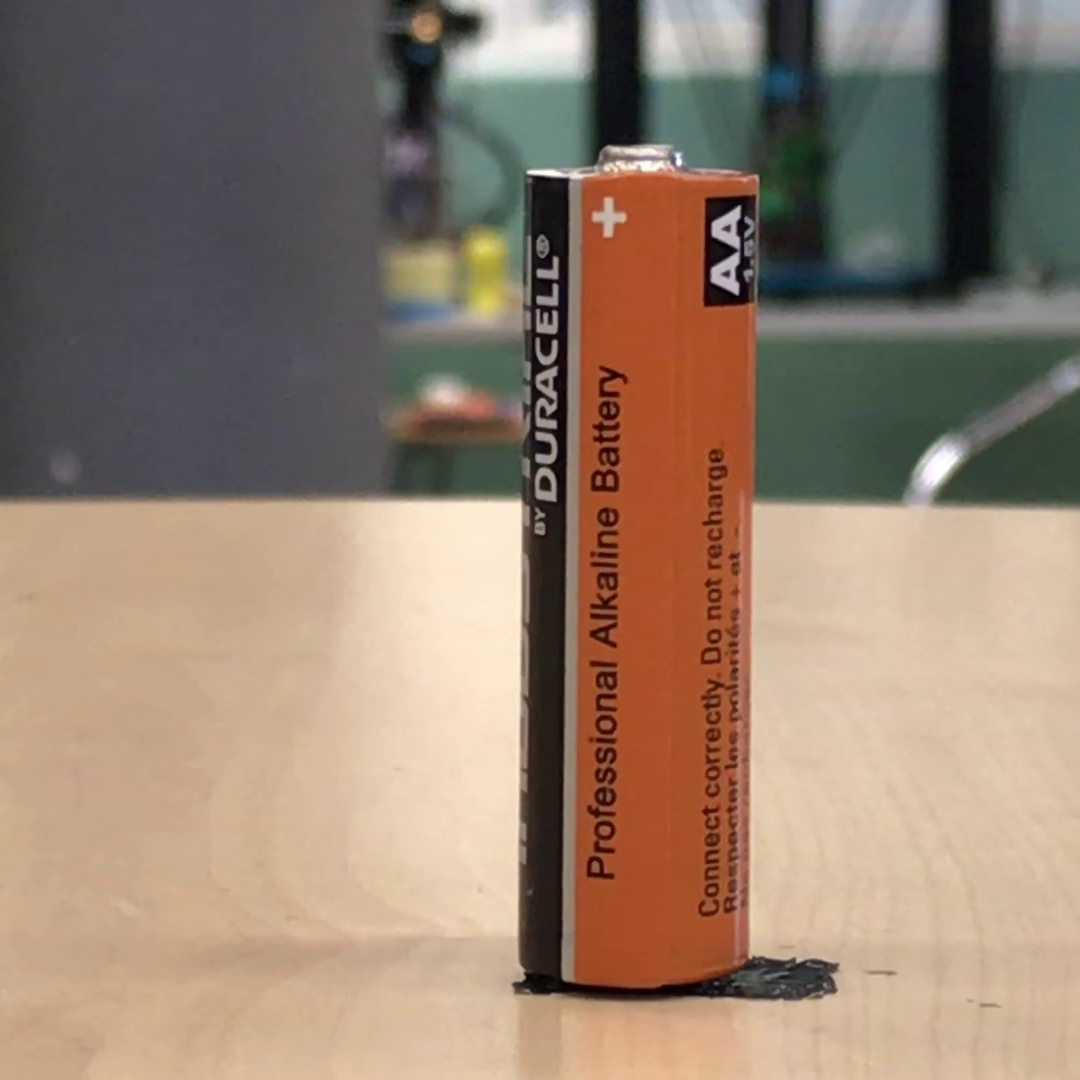keyword: (580, 591, 628, 658)
